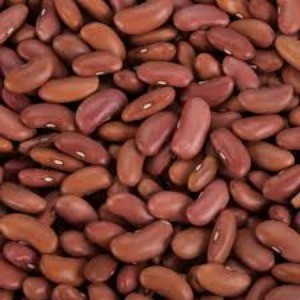beans_brain food: (41, 69, 250, 210)
